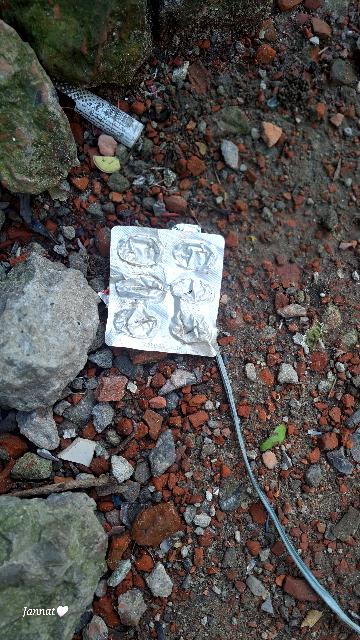medicine: (106, 217, 231, 357)
